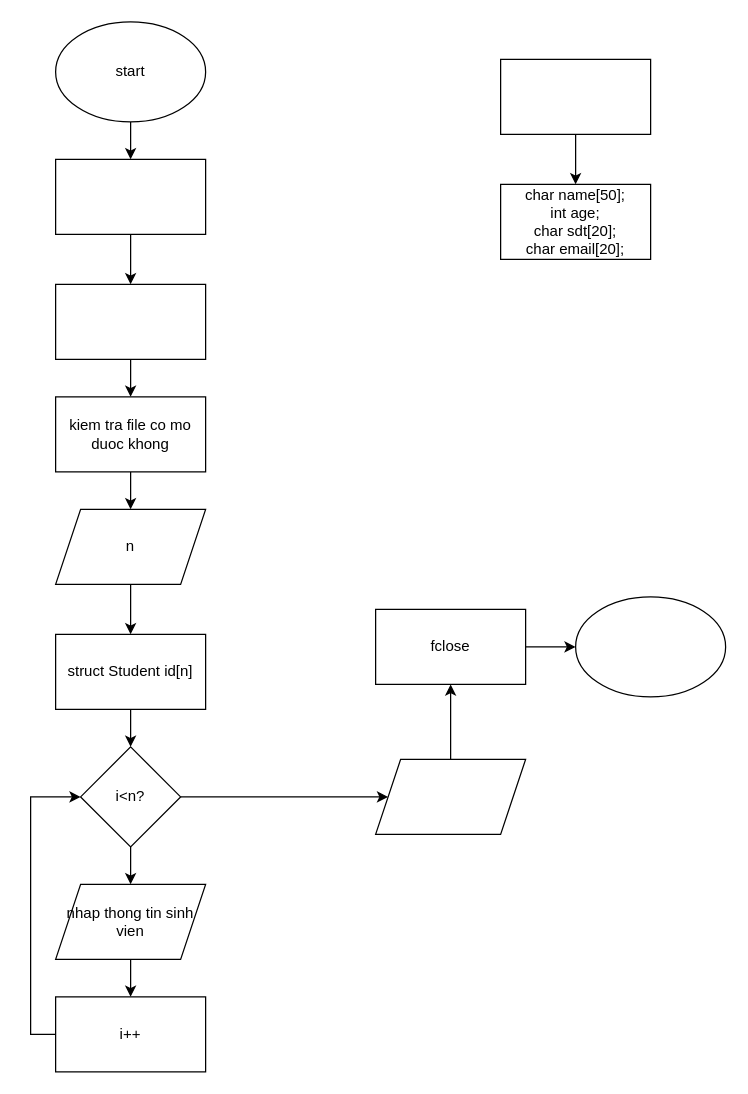
Some shapes in this 748 by 1094 pixel diagram are drawn without their labels. Here are the shapes that lost their labels. From the top down, the box of each, then its label:
(499, 58, 651, 134): struct Student
(54, 158, 206, 234): FILE *f = NULL; int n;
(54, 283, 206, 359): mo file BTVN6 de ghi
(574, 596, 726, 697): end
(374, 758, 526, 834): in ra thong tin sinh vien
